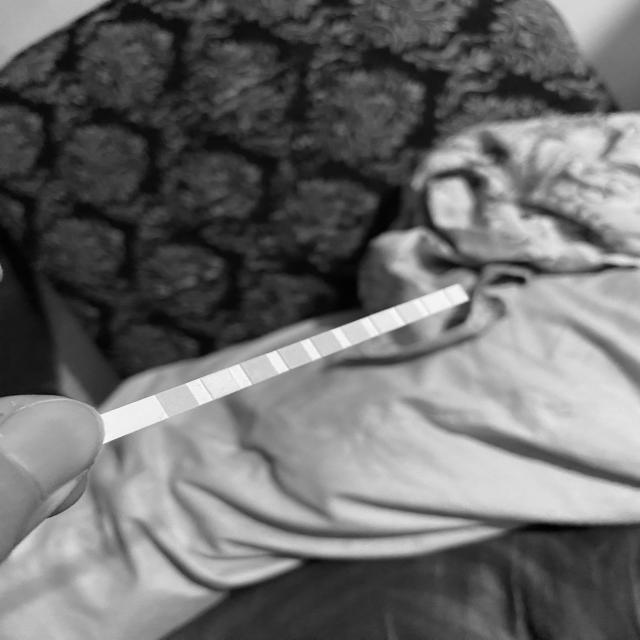Bilirubin: (208, 376, 233, 392)
Blood: (319, 335, 336, 353)
Glucose: (165, 392, 191, 408)
Ketone: (251, 361, 271, 378)
Leukocytes: (449, 288, 463, 301)
Nitrite: (427, 296, 441, 310)
Protein: (378, 314, 393, 330)
SpGravity: (285, 348, 304, 364)
Urobilinogen: (403, 304, 418, 320)
background: (0, 0, 640, 640)
pH: (348, 324, 364, 341)
strip: (103, 284, 471, 439)
